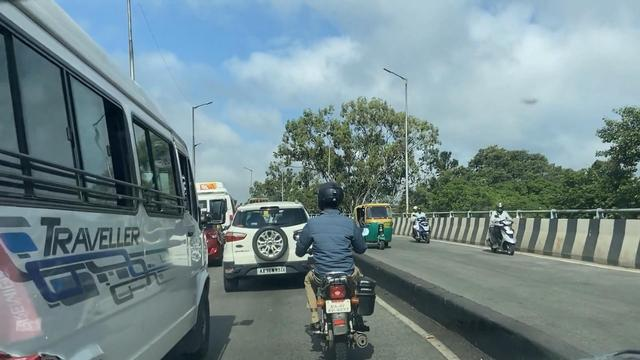HMV: (0, 31, 212, 360)
LMV: (285, 190, 373, 358)
